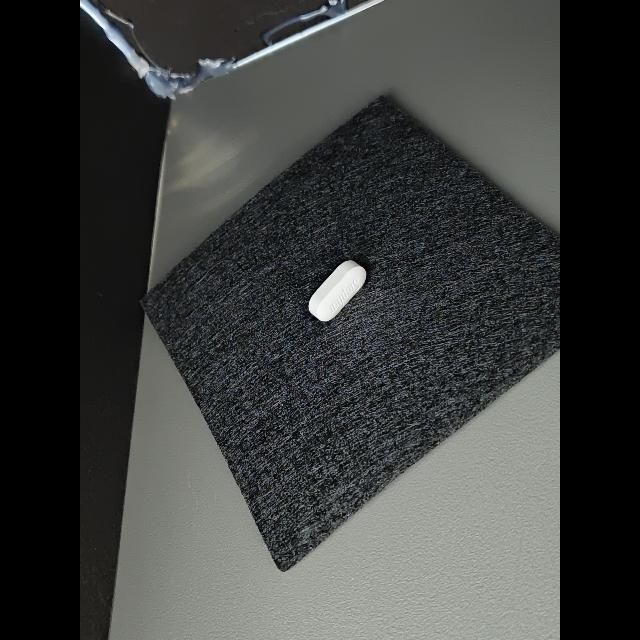Intact Pill: (309, 260, 366, 321)
